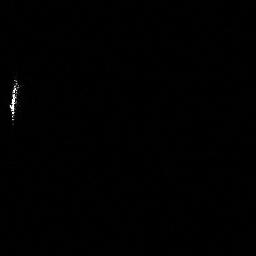ship: (6, 76, 23, 123)
